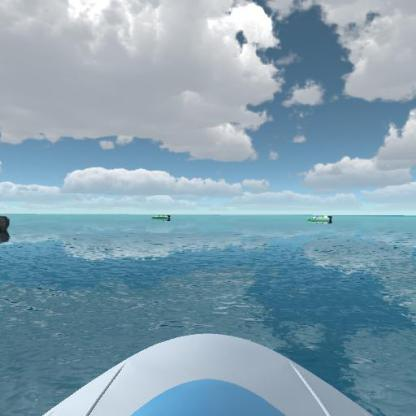usv0: (306, 213, 334, 226), (150, 212, 174, 224)
